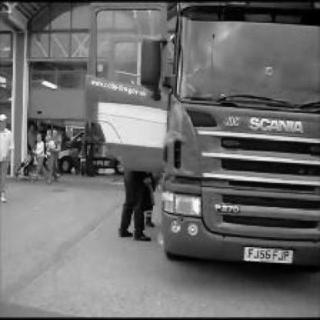other: (82, 76, 218, 176)
